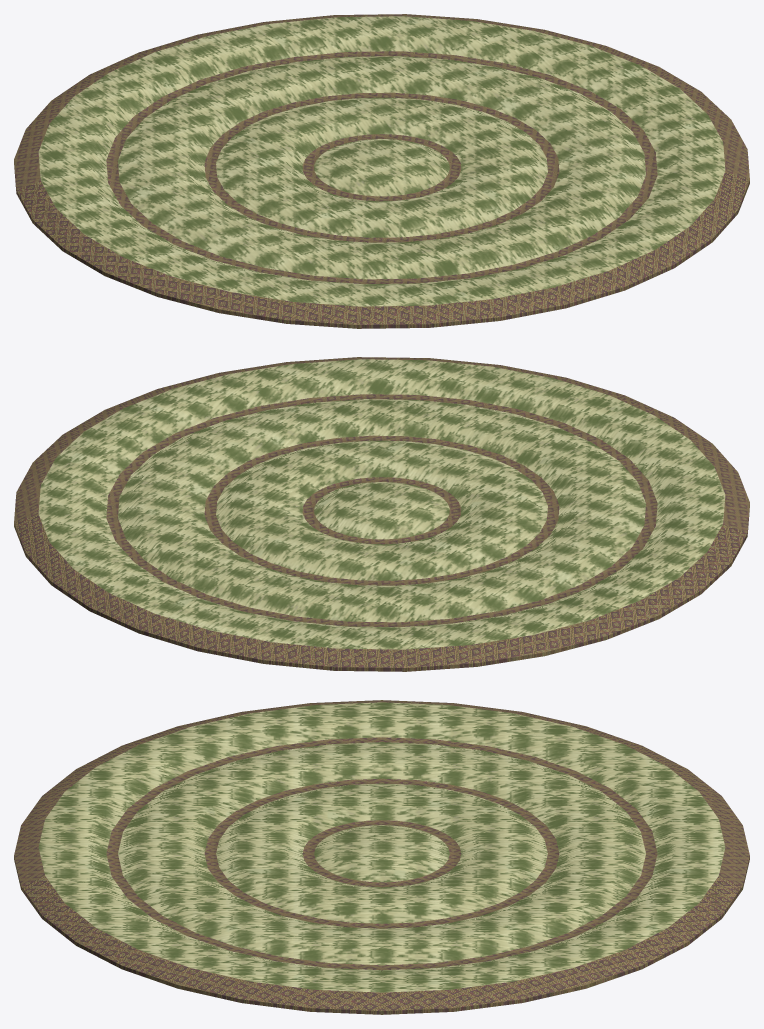
File: GozaCushion01.fbx
The picture shows the model from 3 angles, top to bottom: view 1: azimuth 30°, elevation 25°; view 2: azimuth 150°, elevation 25°; view 3: azimuth 270°, elevation 25°; orthographic projection.
Parts seen in each view (by area): view 1: GozaCushion01; view 2: GozaCushion01; view 3: GozaCushion01.
Boxes of the visible parts, x1=… form: GozaCushion01: x1=14, y1=14, x2=749, y2=328; GozaCushion01: x1=14, y1=357, x2=749, y2=671; GozaCushion01: x1=14, y1=700, x2=749, y2=1014.
Bounding box in the file's own units: 60 × 1.81 × 60.
